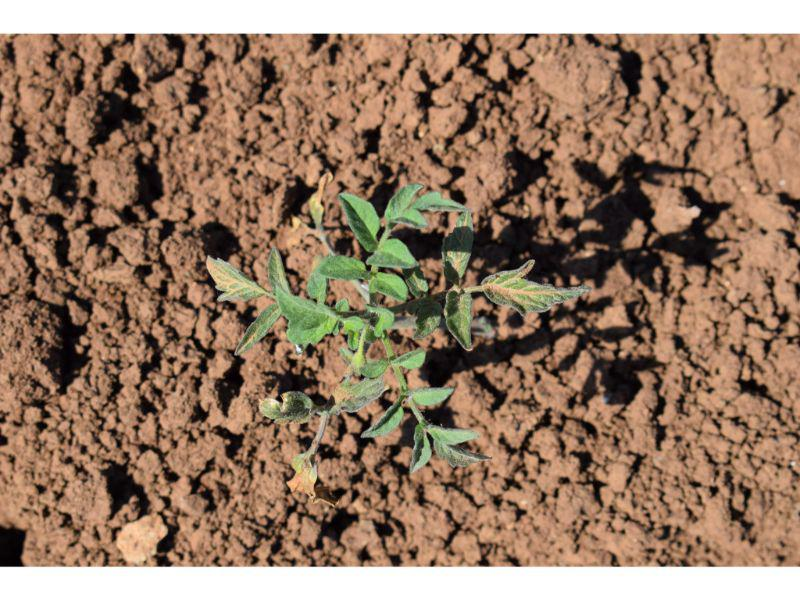tomato: (208, 174, 580, 485)
